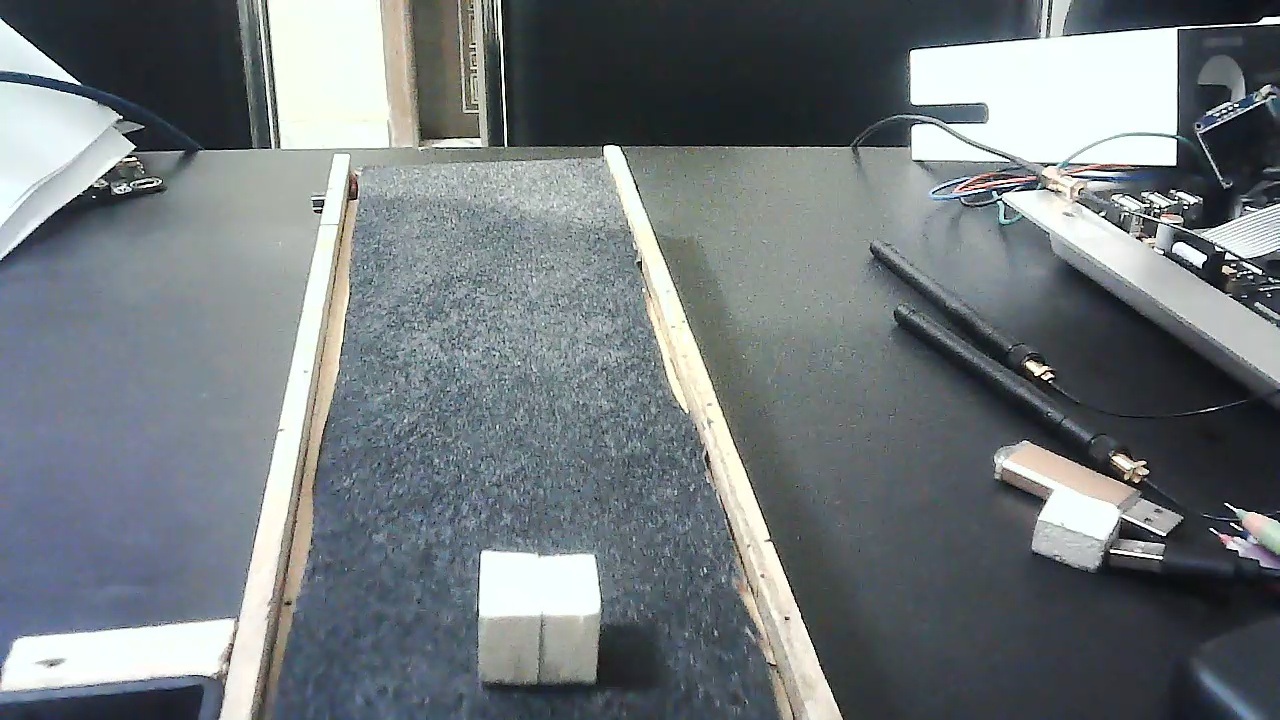Small: (471, 551, 605, 685)
